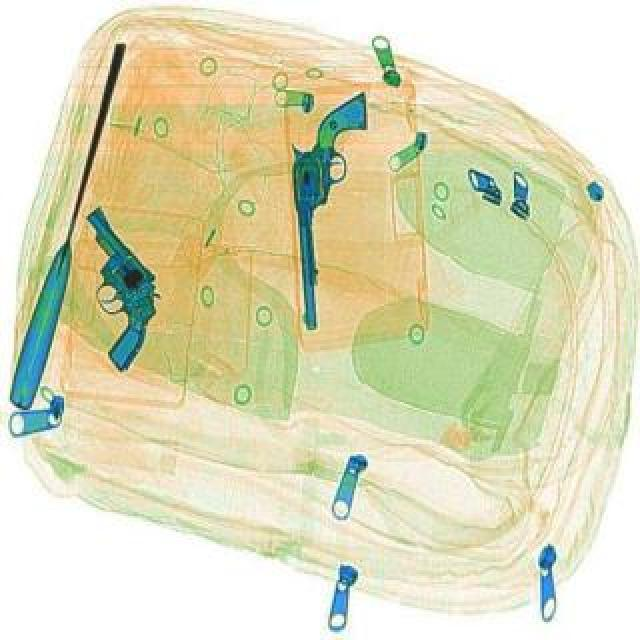gun: (26, 206, 198, 378), (284, 98, 388, 334)
knife: (8, 46, 136, 412)
